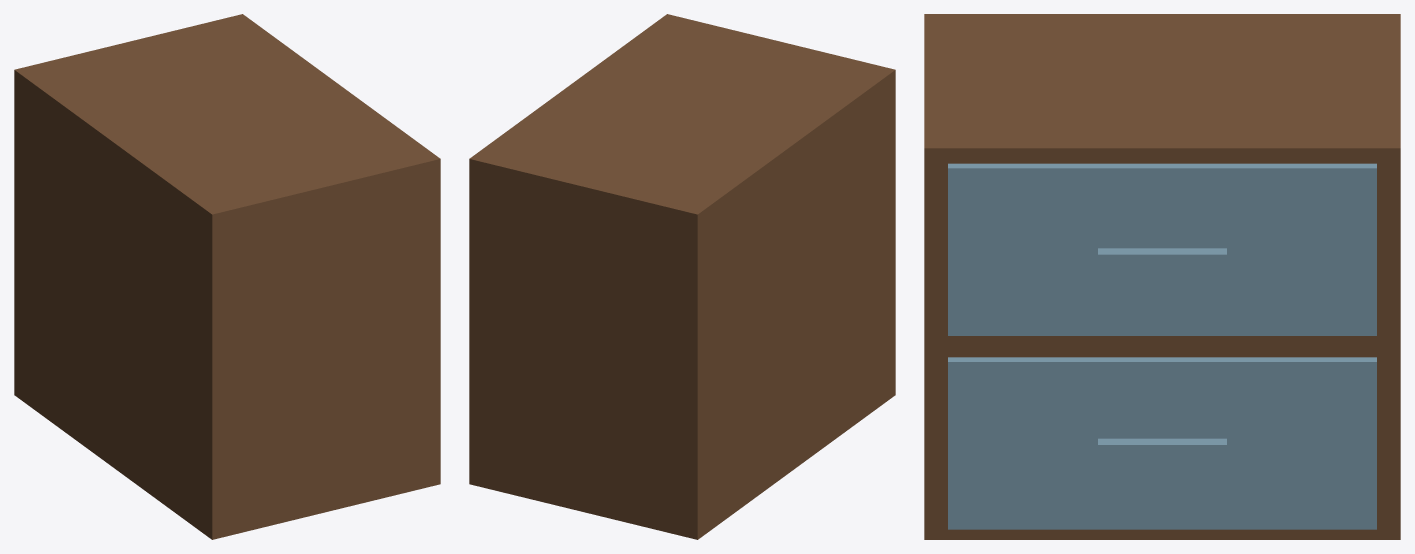
The model's file is Bedroom_Nightstand_2.fbx.
3 views of the same model, side by side, from view 1: azimuth 30°, elevation 25°; view 2: azimuth 150°, elevation 25°; view 3: azimuth 270°, elevation 25° (orthographic). The views are drawn at different scales.
Visible parts, largest first — view 1: Bedroom_Nightstand_2; view 2: Bedroom_Nightstand_2; view 3: Bedroom_Nightstand_2.
Boxes of the visible parts, <box> form: Bedroom_Nightstand_2: <box>14,14,440,539</box>; Bedroom_Nightstand_2: <box>469,14,895,539</box>; Bedroom_Nightstand_2: <box>924,14,1400,539</box>.
Bounding box in the file's own units: 63.64 × 80 × 88.21.
